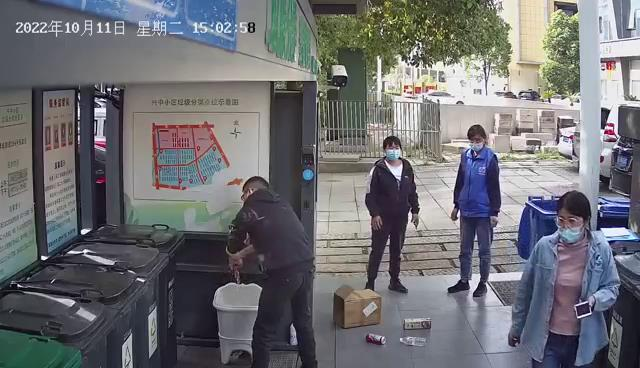lvzhipin: (364, 330, 389, 347)
person: (223, 173, 322, 368), (362, 132, 422, 298)
suliaozhipin: (398, 334, 428, 349)
worker: (504, 188, 626, 368), (444, 122, 503, 300)
zhizhipin: (332, 283, 385, 331), (402, 316, 435, 332)
